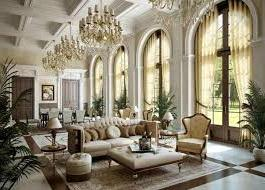chair: (174, 113, 210, 162), (66, 154, 91, 181), (72, 107, 86, 124), (60, 106, 71, 125), (139, 109, 154, 122), (116, 107, 131, 120), (45, 111, 58, 126), (38, 108, 47, 125)
door: (12, 76, 33, 118), (60, 80, 78, 111)
light: (141, 0, 223, 29), (79, 0, 124, 46), (53, 21, 86, 65), (43, 116, 64, 149), (42, 45, 64, 76), (161, 111, 176, 135)
sofa: (69, 122, 154, 158)
table: (105, 146, 185, 183), (37, 145, 67, 177), (40, 112, 77, 127), (158, 128, 185, 142)
